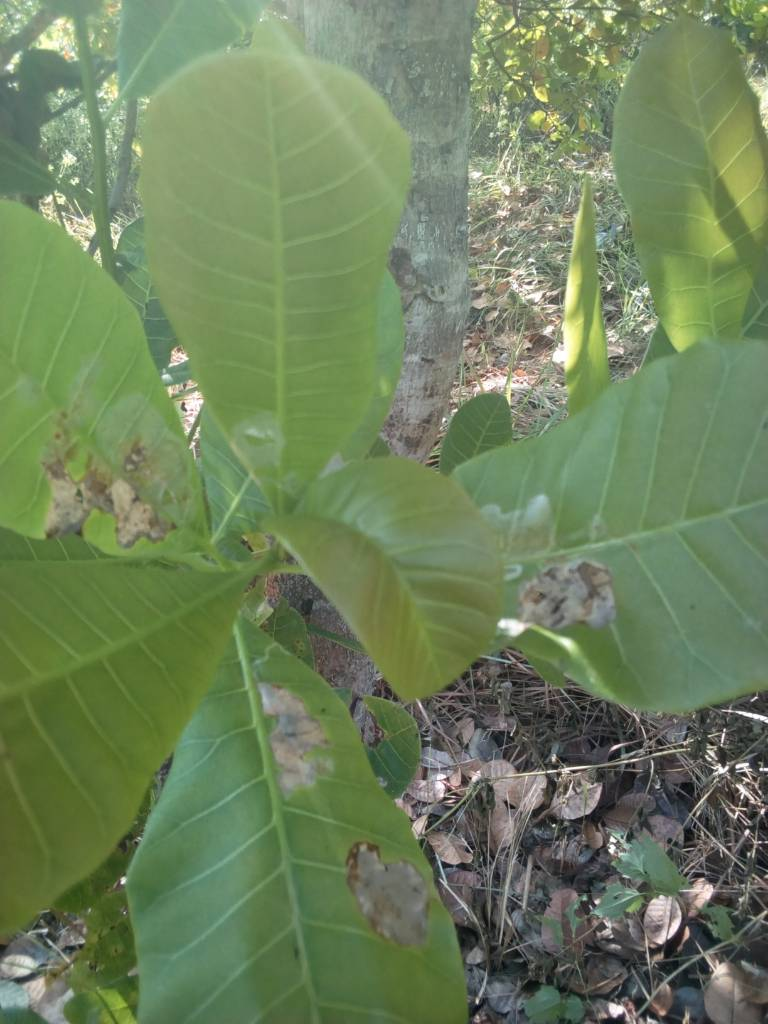Dysdercus wolkerii: (107, 608, 479, 1024)
